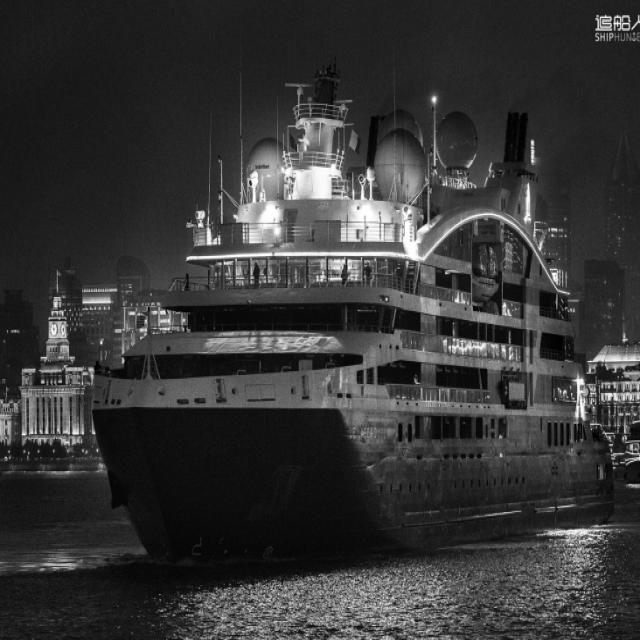cruises: (88, 66, 619, 571)
